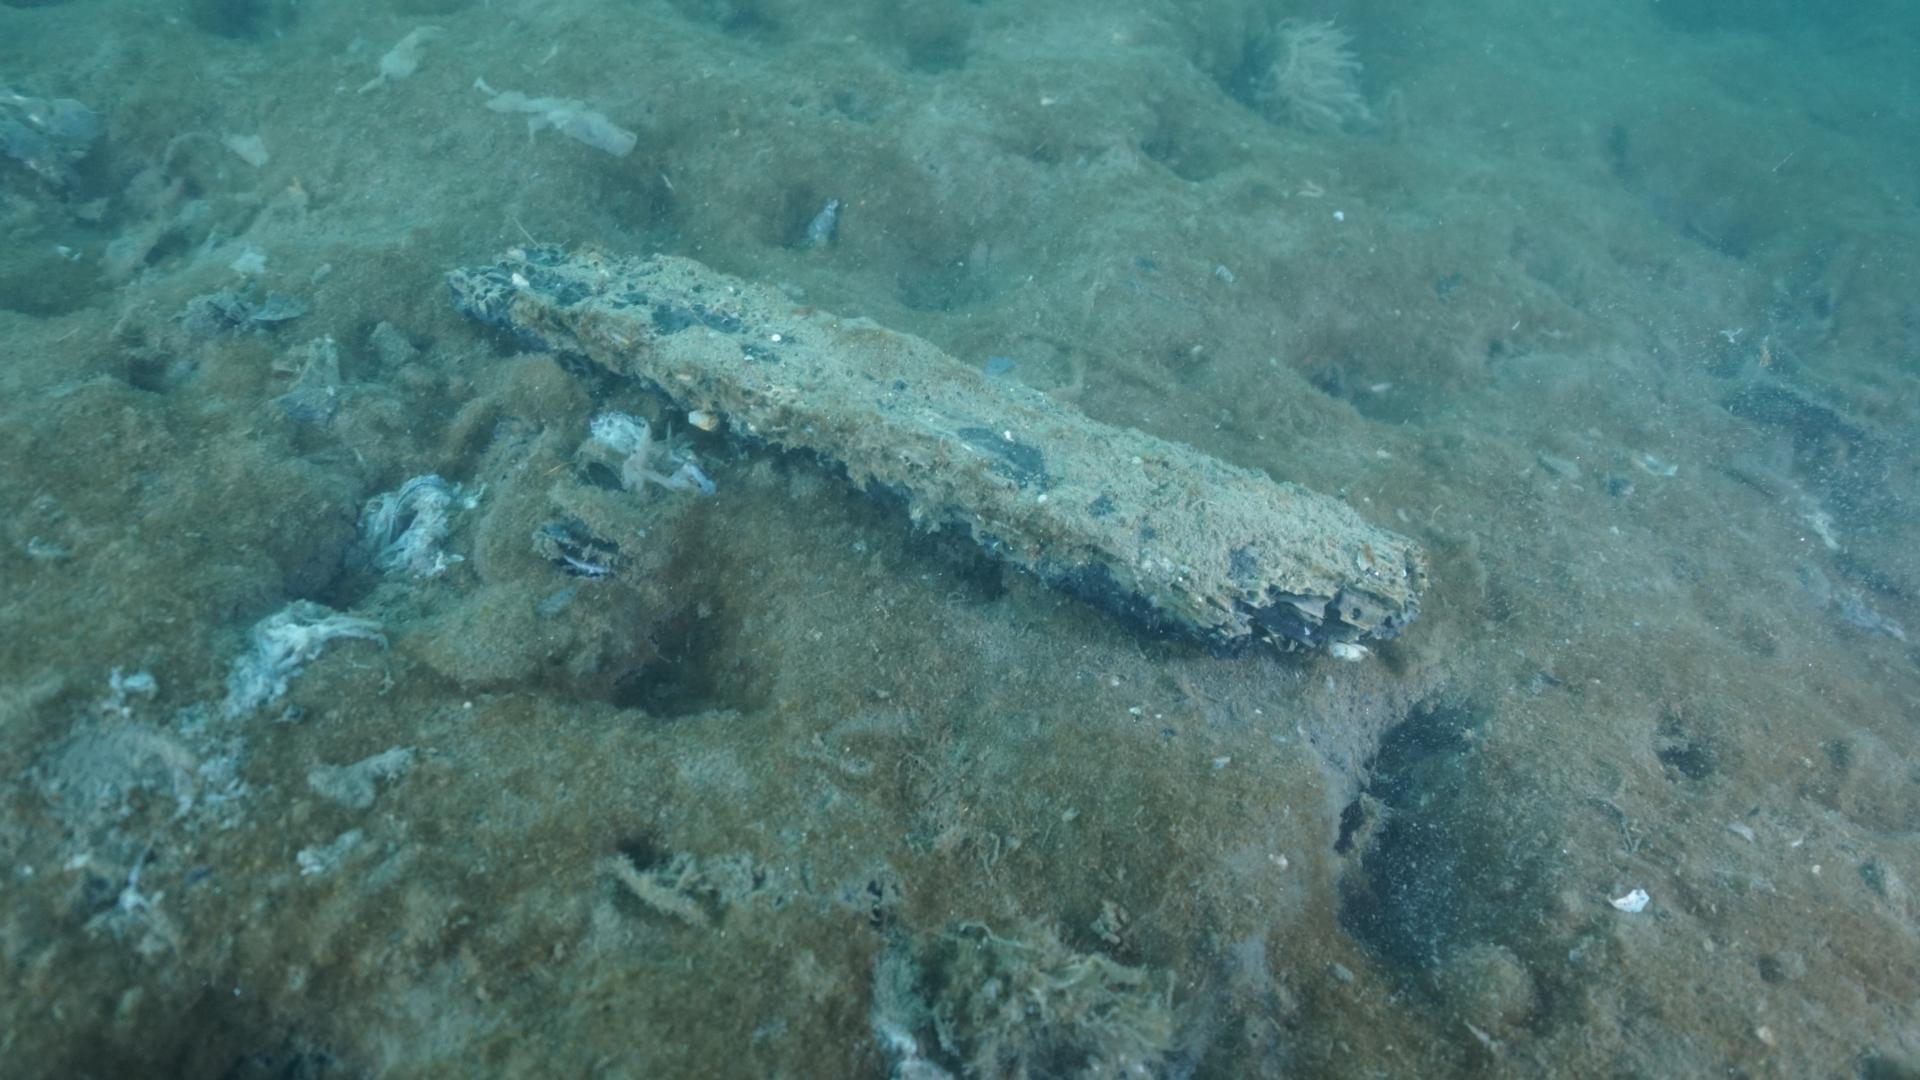wood: (448, 237, 1437, 673)
